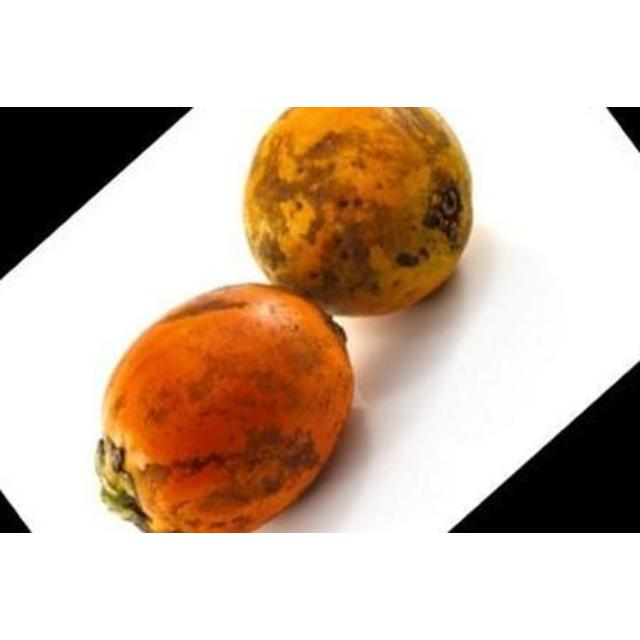good: (95, 283, 356, 532), (243, 107, 475, 319)
